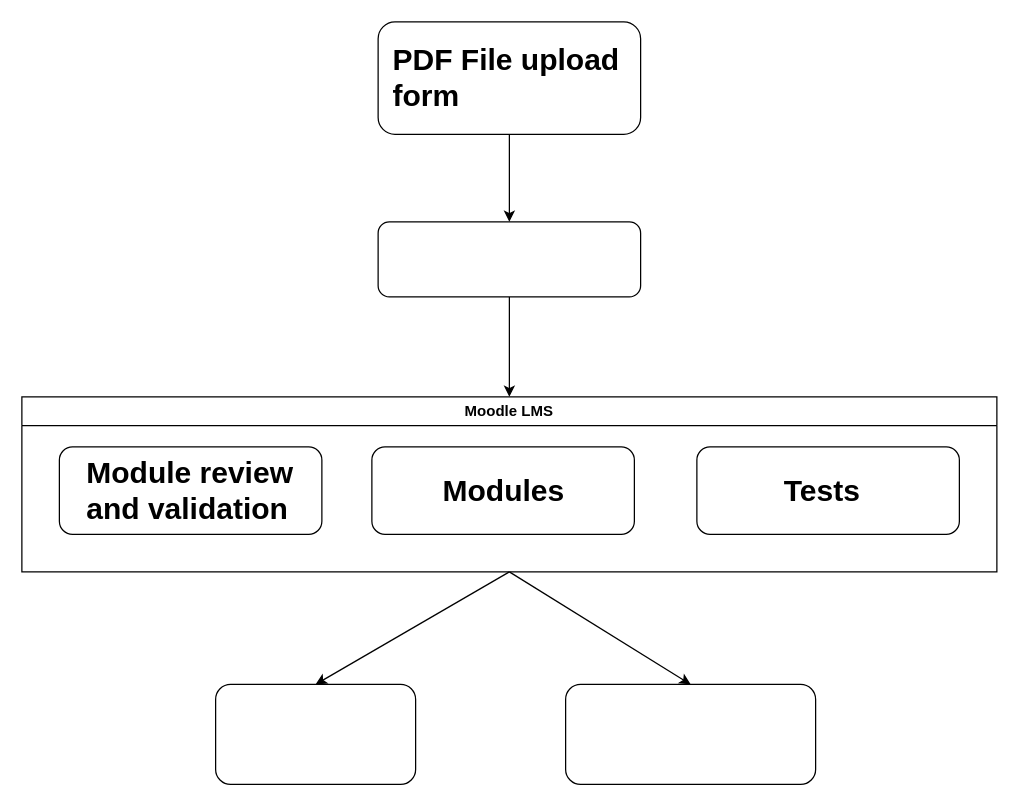
This 1019x806 diagram has some shape labels left out. Here are the shapes that lost their labels. From the top down, the centre of each, then its label:
At [509,259]: "Gemini API".
At [315,733]: "Frontend".
At [690,733]: "Database Saves progress to database".
